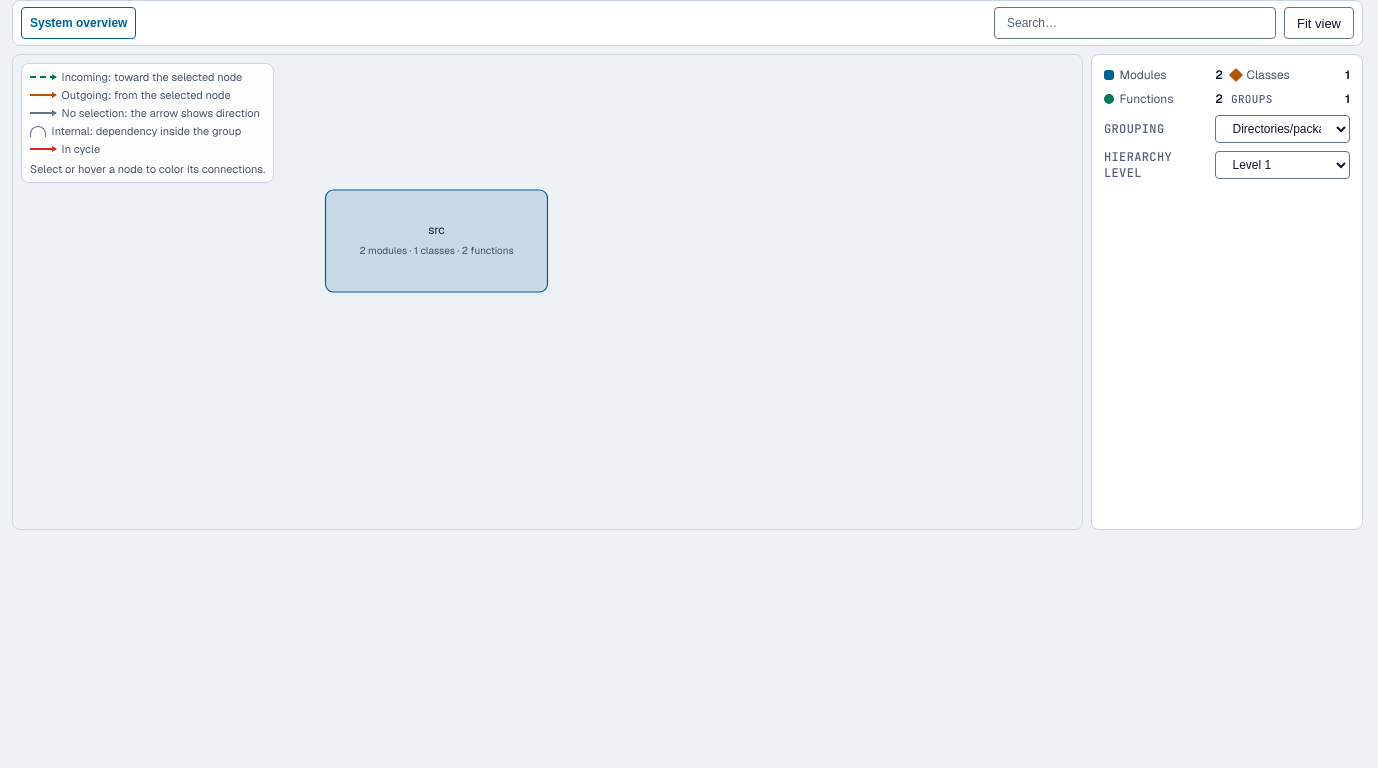
structural graph › shows architectural explorer controls and allows searching nodes
This screenshot has width=1378, height=768.
expect the list item "Modules" is shown: met, box 1120,67 -> 1167,83
expect the navigation bar named "Navigation" is shown: met, box 21,7 -> 136,39
Type "ClassA" into the field named "Search modules, classes, or functions" at x=1135, y=23, box 994,7 -> 1276,39
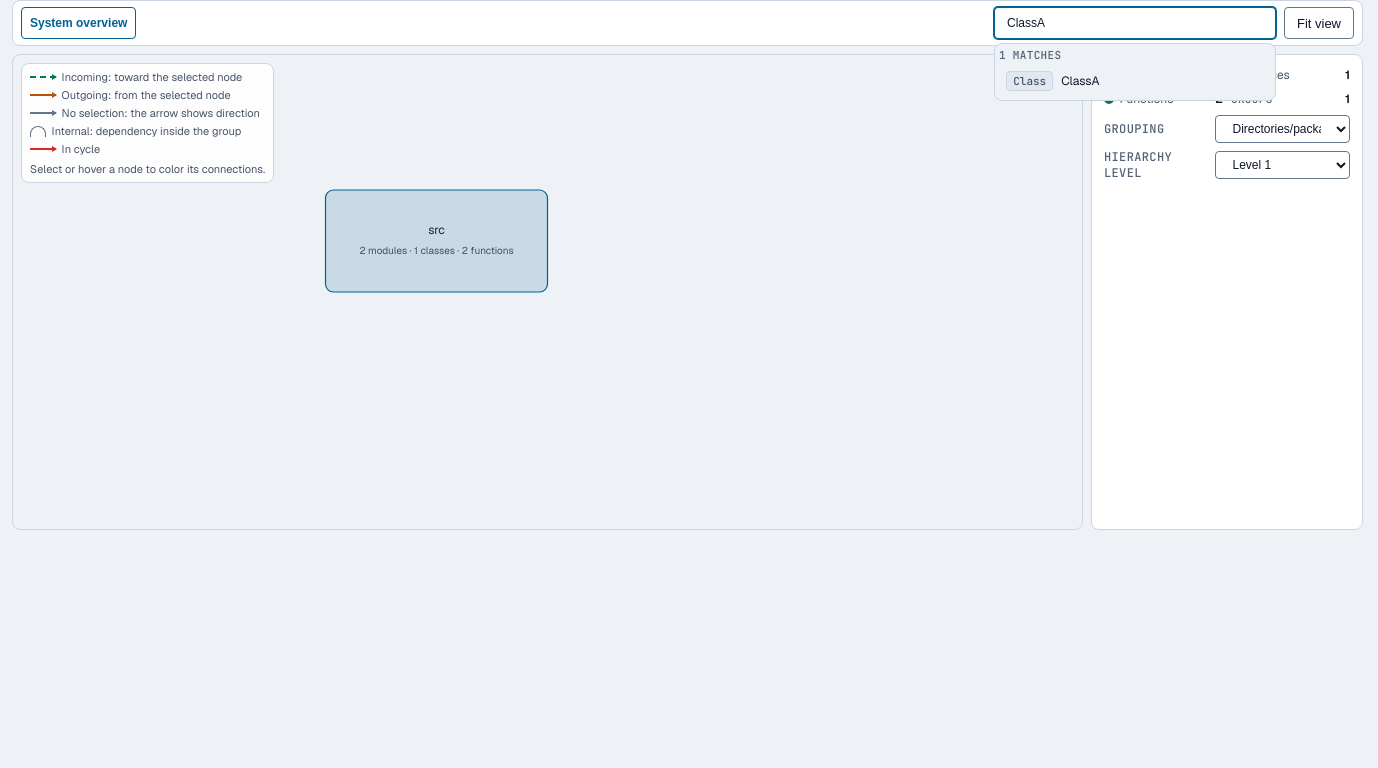
expect the button "Class ClassA" is shown: met, box 999,66 -> 1271,96
